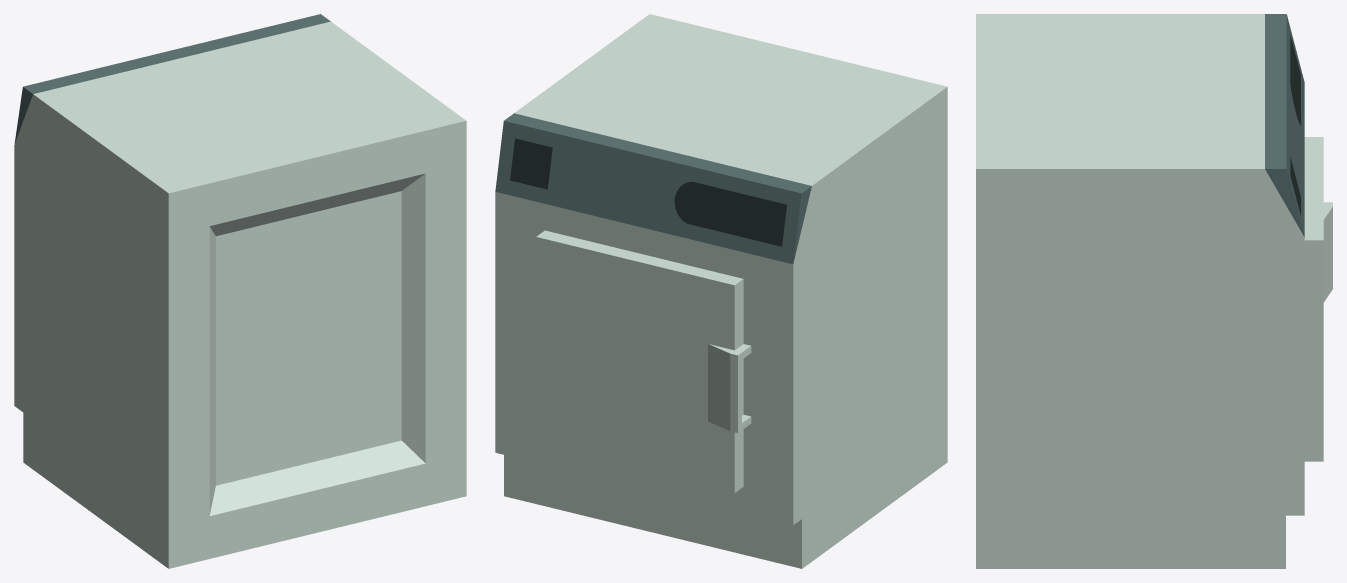
The model's file is dryer.glb.
The picture shows the model from 3 angles, left to right: view 1: azimuth 30°, elevation 25°; view 2: azimuth 150°, elevation 25°; view 3: azimuth 270°, elevation 25°; orthographic projection. The views are drawn at different scales.
Size of the model in its own units: 3.9 by 4.7 by 3.8.
